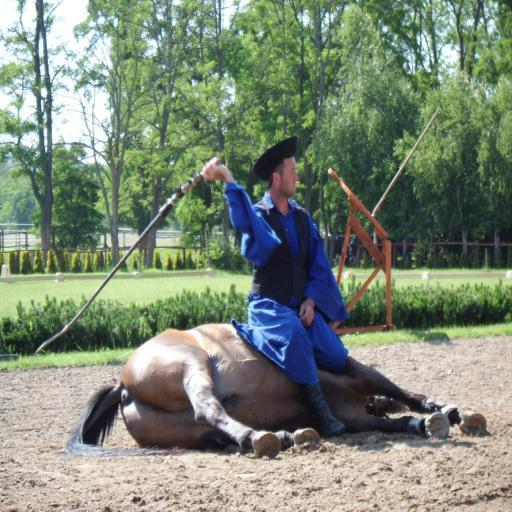horse: (63, 318, 492, 458)
